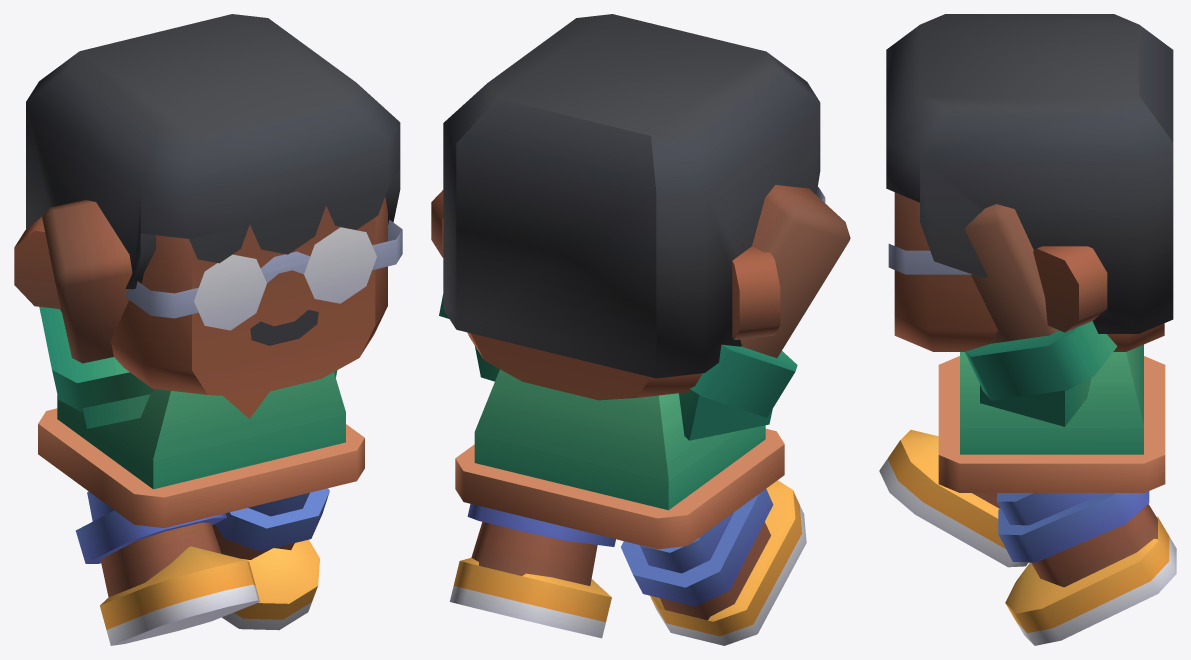
The model's file is walker-male-a-walk-b.glb.
3 views of the same model, side by side, from view 1: azimuth 30°, elevation 25°; view 2: azimuth 150°, elevation 25°; view 3: azimuth 270°, elevation 25° (orthographic). The views are drawn at different scales.
Visible parts, largest first — view 1: character-male-a-walk-b; view 2: character-male-a-walk-b; view 3: character-male-a-walk-b.
Part boxes in pixels (x1,y1,x2,y2): character-male-a-walk-b: [14, 14, 402, 645]; character-male-a-walk-b: [431, 14, 850, 645]; character-male-a-walk-b: [879, 14, 1176, 645].
Bounding box in the file's own units: 0.4719 × 0.7123 × 0.3525.
Materials: 1 (1 with a texture image).
